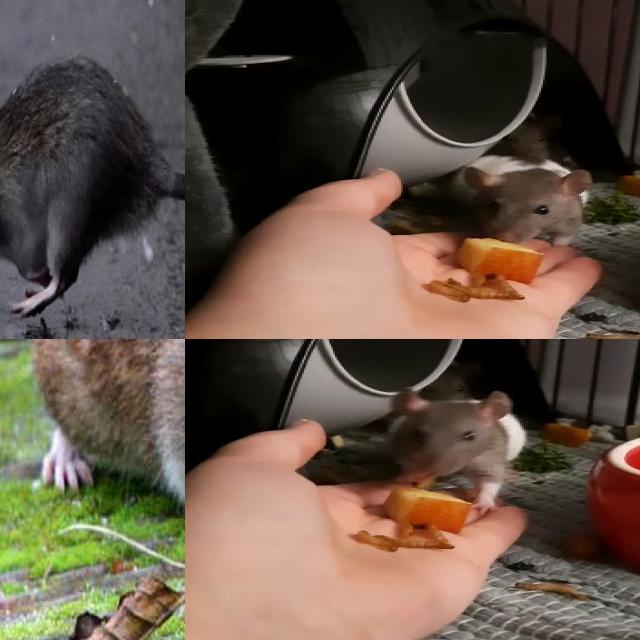rat: (0, 26, 185, 336), (37, 339, 185, 548), (375, 384, 525, 509), (446, 148, 588, 254)
